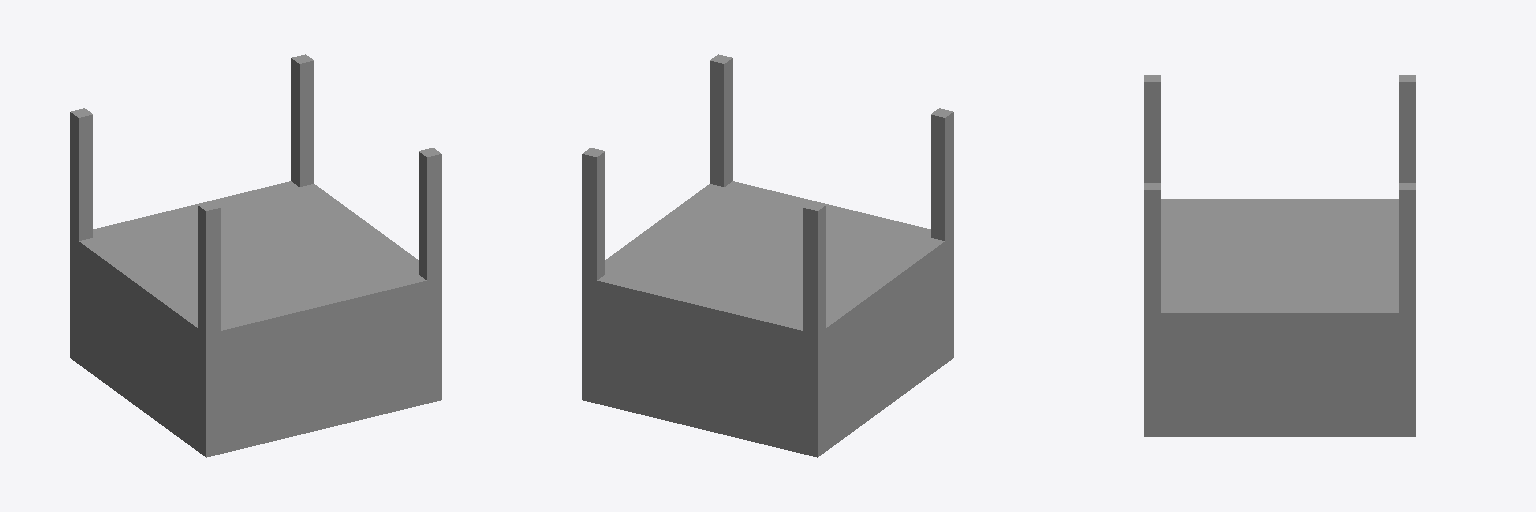
File: stabilizer.obj
3 renders of one model, left to right at view 1: azimuth 30°, elevation 25°; view 2: azimuth 150°, elevation 25°; view 3: azimuth 270°, elevation 25°, orthographic.
Visible parts, largest first — view 1: Cube; view 2: Cube; view 3: Cube.
Part boxes in pixels (x1,y1,x2,y2): Cube: (70,54,441,457); Cube: (582,54,953,457); Cube: (1144,75,1415,436).
Size of the model in its own units: 1 by 1 by 1.